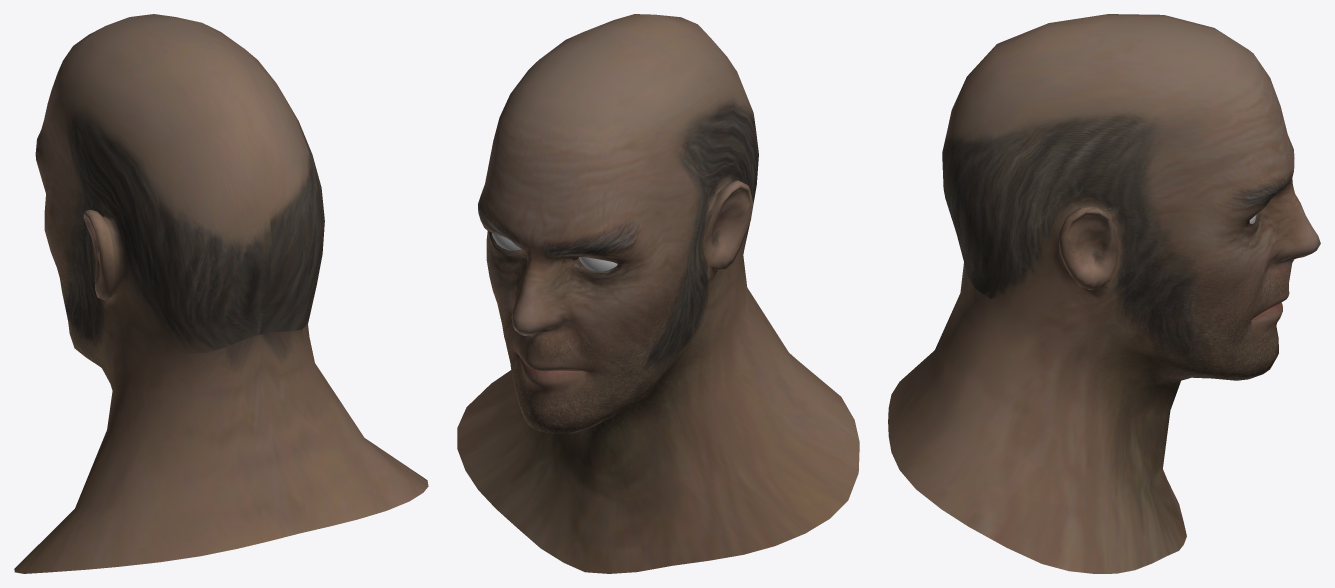
Rendered from G3_Head_Hero_Myrtana_Animated_06_S02.obj.
3 views of the same model, side by side, from view 1: azimuth 30°, elevation 25°; view 2: azimuth 150°, elevation 25°; view 3: azimuth 270°, elevation 25° (orthographic). The views are drawn at different scales.
Visible parts, largest first — view 1: G3_Animation_Head_Main_06; view 2: G3_Animation_Head_Main_06; view 3: G3_Animation_Head_Main_06.
Boxes of the visible parts, <box> form: G3_Animation_Head_Main_06: <box>14,14,428,573</box>; G3_Animation_Head_Main_06: <box>457,14,859,573</box>; G3_Animation_Head_Main_06: <box>888,14,1320,573</box>.
Size of the model in its own units: 0.259 by 0.3321 by 0.254.
